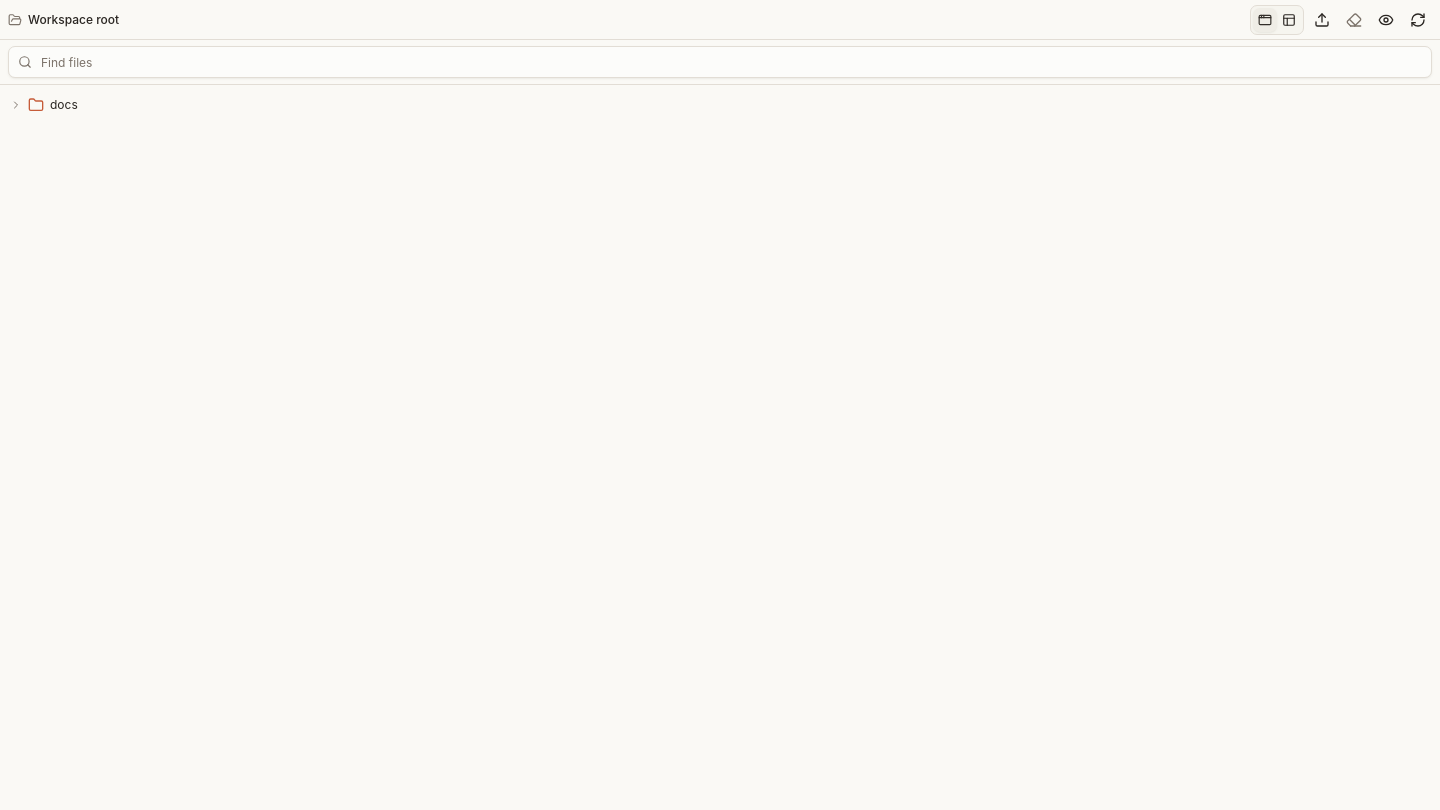
Test: WorkspaceFilesTab › keeps the create dialog open so a rejected name can be corrected
Right-click the element named "Files": (720, 105) top-left (4, 89), bottom-right (1436, 121)
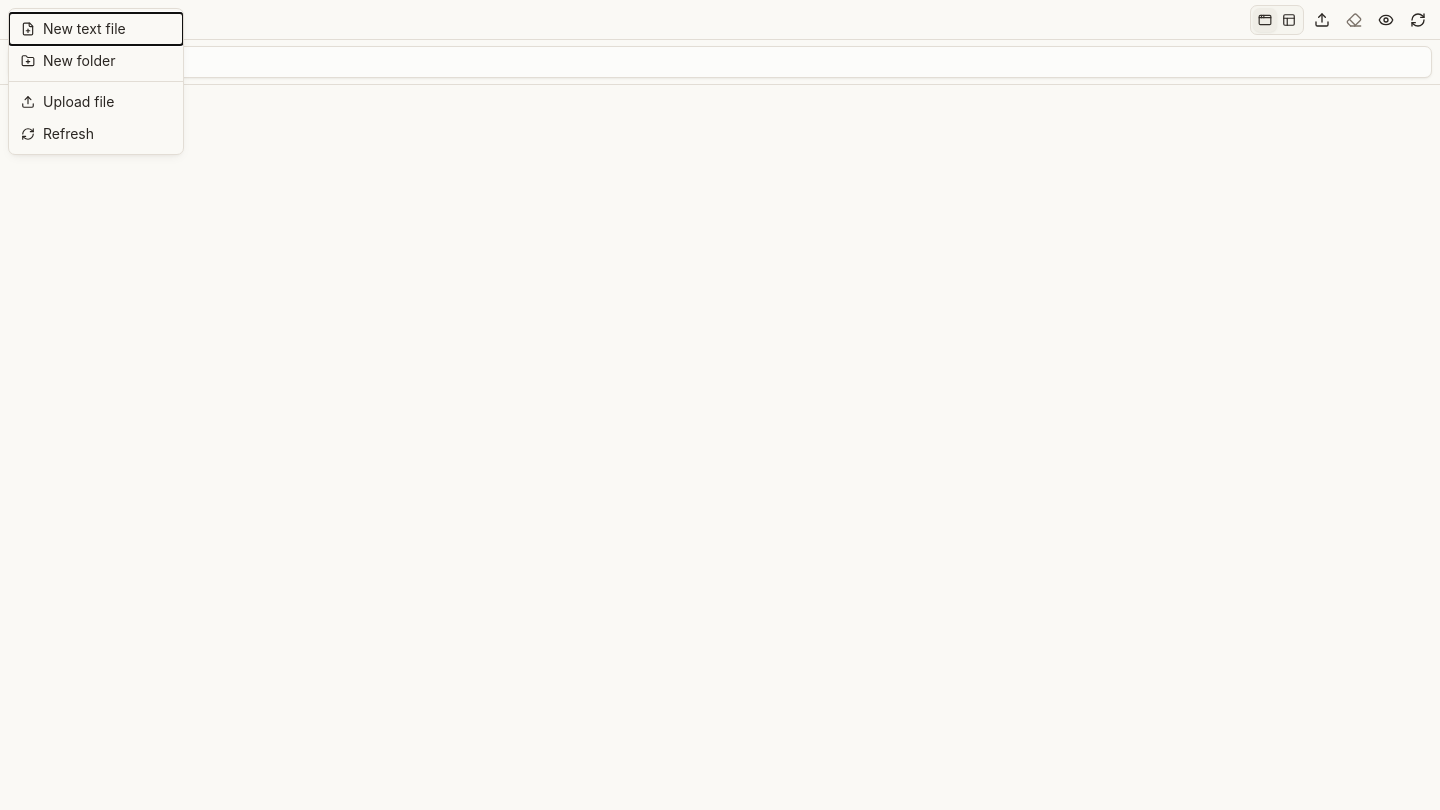
Click the menu item "New text file": (96, 29) top-left (9, 13), bottom-right (183, 45)
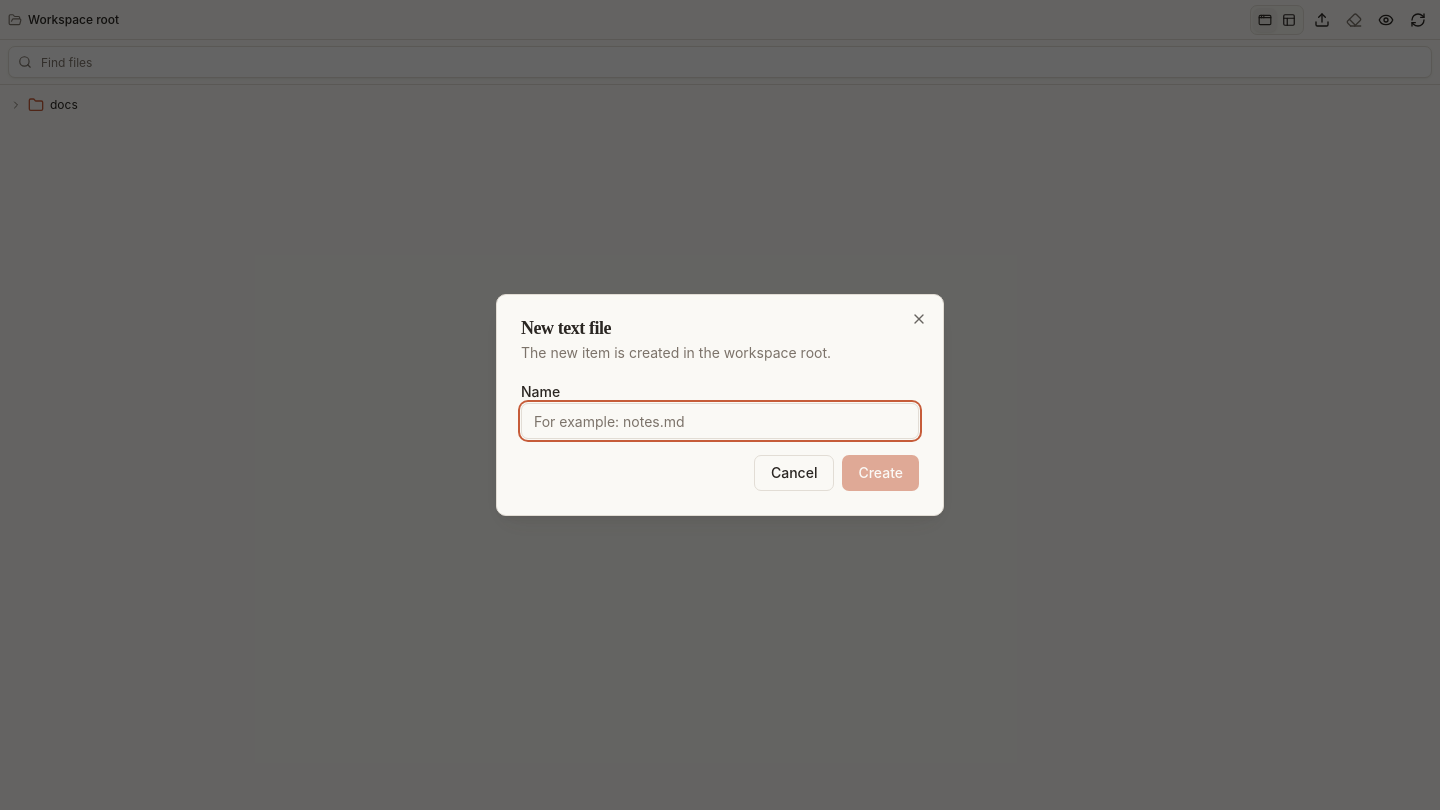
In the field labelled "Name": (720, 421) top-left (521, 403), bottom-right (919, 439), type "docs"
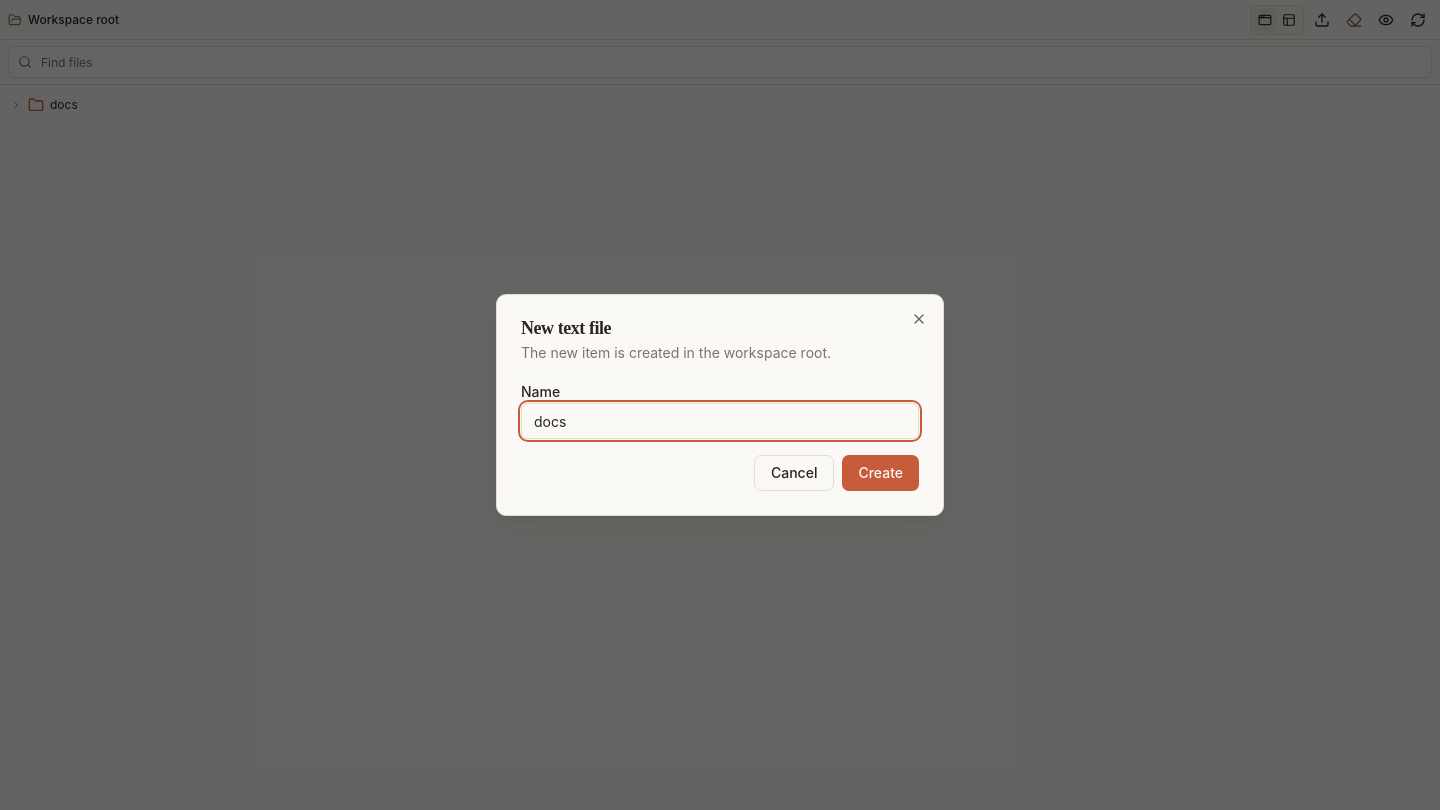
Click the button "Create": (881, 473) top-left (842, 455), bottom-right (919, 491)
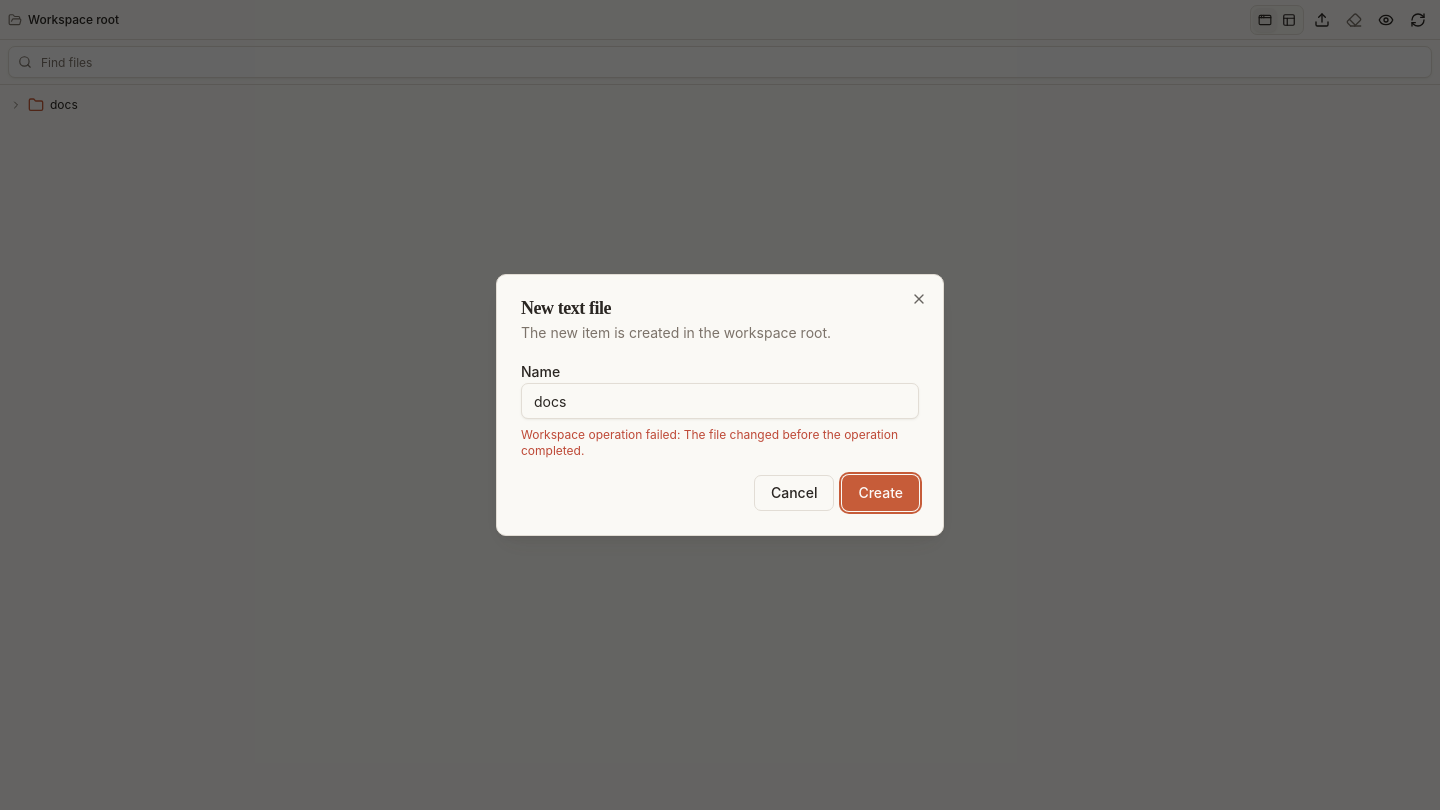
Expected: the message reads "Workspace operation failed: The file changed before the operation completed.", top-left (521, 427), bottom-right (898, 458)
